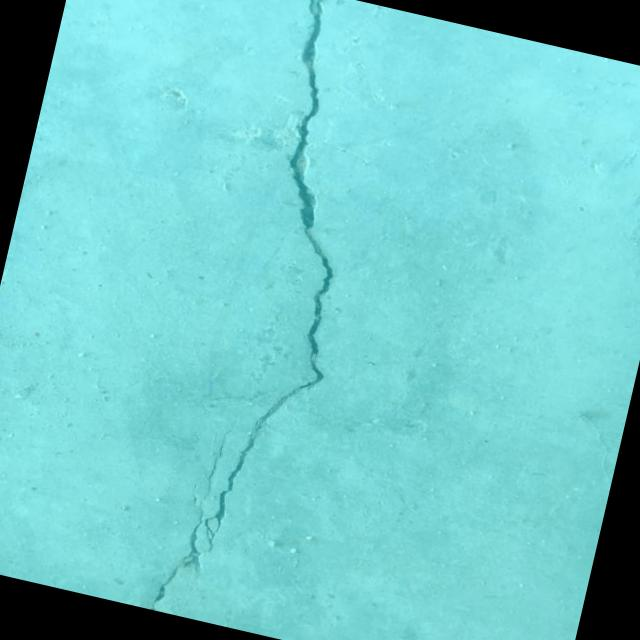crack: (148, 0, 408, 635), (189, 481, 203, 505)
